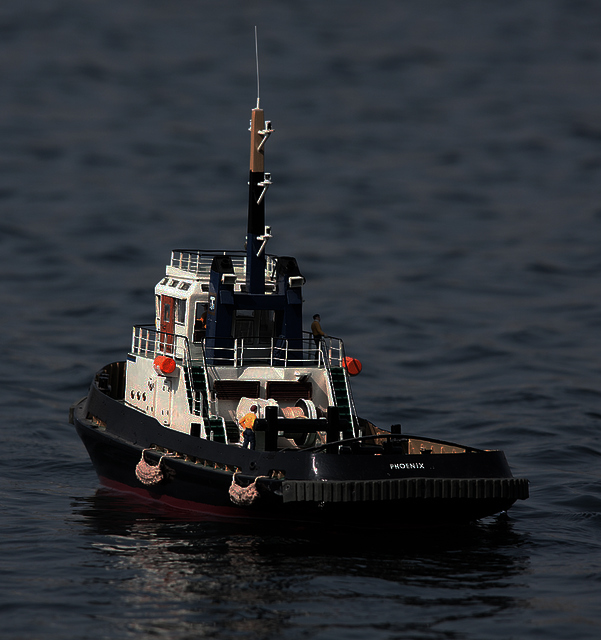tug_boat: (74, 35, 519, 526)
